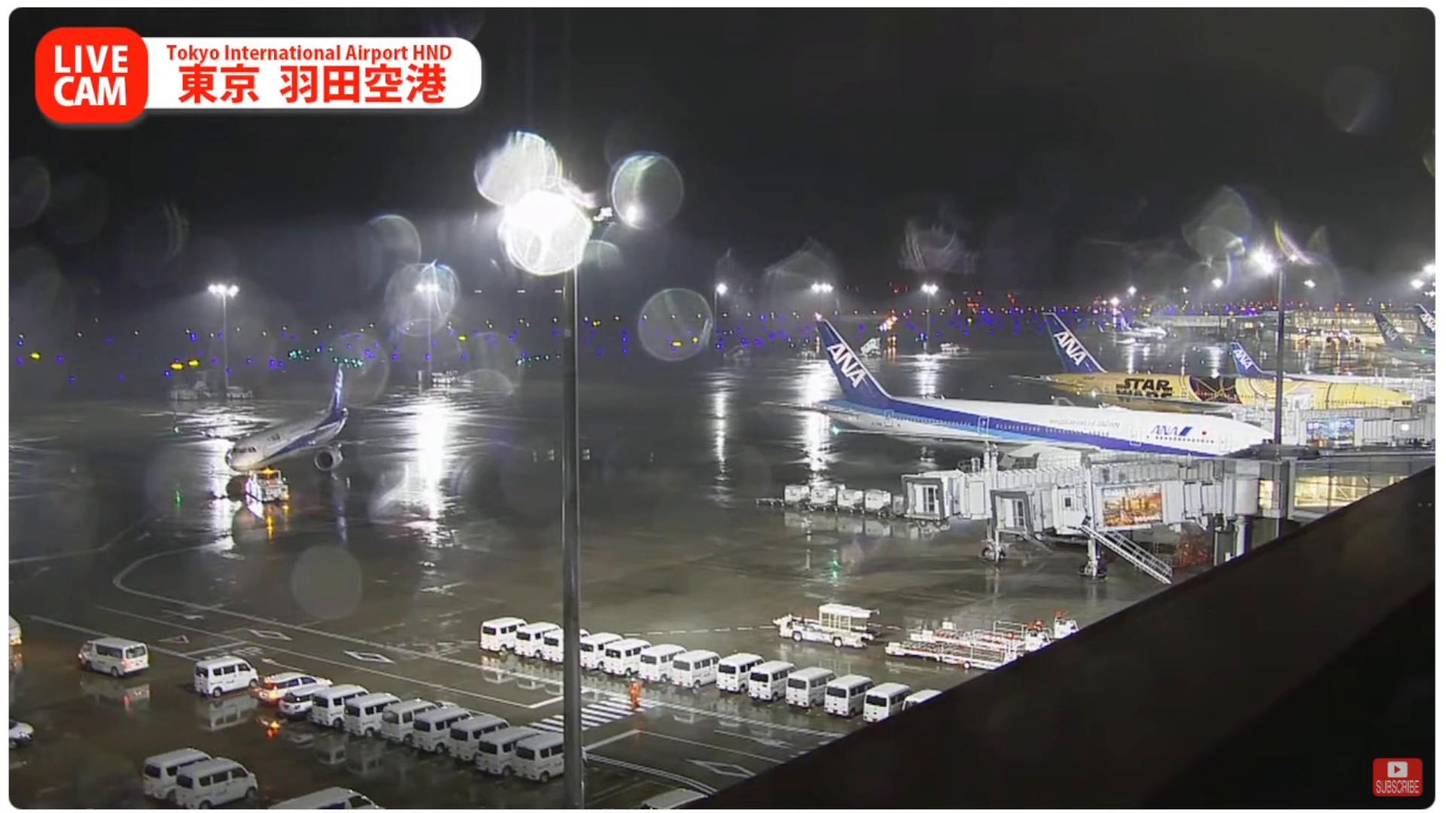APS: (241, 466, 291, 505)
Aerobridge: (898, 461, 1193, 525), (988, 473, 1227, 539)
Airplane: (171, 362, 444, 475)
Dolly: (781, 482, 896, 523)
JCPL: (914, 617, 1081, 654), (884, 636, 1033, 667)
Skyloader: (771, 602, 883, 649)
Window: (1289, 476, 1414, 509)
